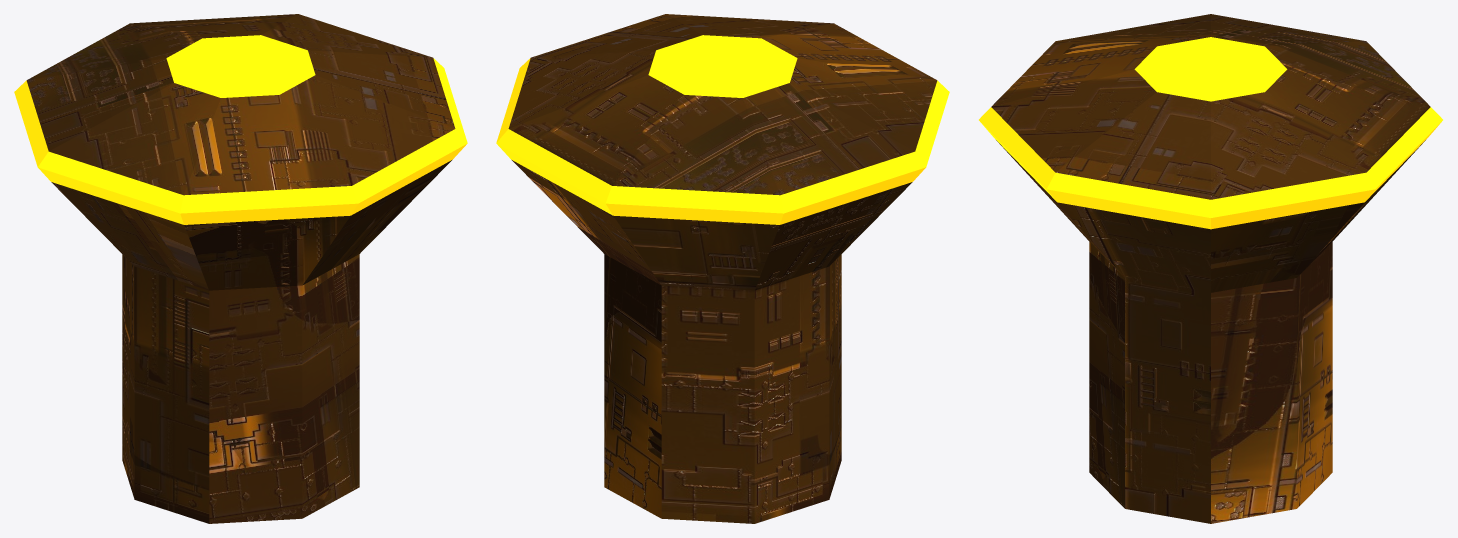
File: floor.05.gltf
3 renders of one model, left to right at view 1: azimuth 30°, elevation 25°; view 2: azimuth 150°, elevation 25°; view 3: azimuth 270°, elevation 25°, orthographic.
Parts seen in each view (by area): view 1: Floor 5 Base; view 2: Floor 5 Base; view 3: Floor 5 Base.
Boxes of the visible parts, x1,y1,x2,y2 form: Floor 5 Base: (14,14,467,523); Floor 5 Base: (496,14,949,523); Floor 5 Base: (979,14,1442,523).
Size of what is drawn, in the model's own units: 19.42 by 18.58 by 19.42.
Materials: 2 (1 with a texture image).
